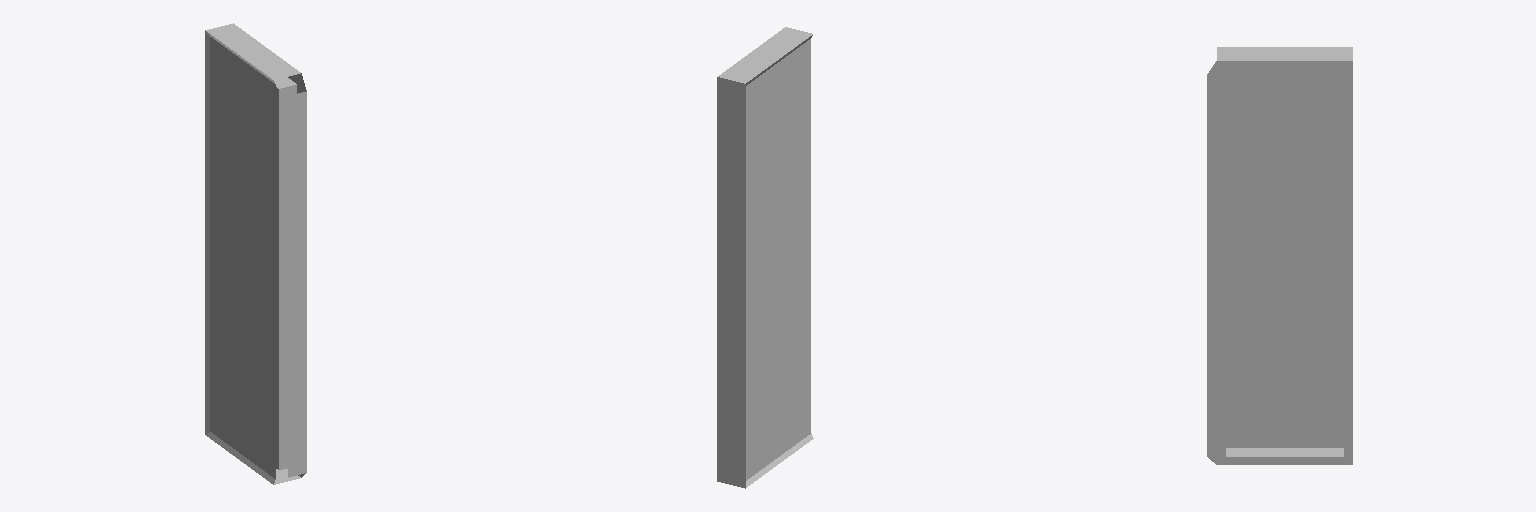
Rendered from WallPanel.obj.
3 views of the same model, side by side, from view 1: azimuth 30°, elevation 25°; view 2: azimuth 150°, elevation 25°; view 3: azimuth 270°, elevation 25° (orthographic).
Parts seen in each view (by area): view 1: WindowWall; view 2: WindowWall; view 3: WindowWall.
Part boxes in pixels (left/top/right/bottom): WindowWall: left=205, top=23, right=306, bottom=484; WindowWall: left=717, top=27, right=813, bottom=488; WindowWall: left=1207, top=47, right=1352, bottom=464.
Size of the model in its own units: 0.2242 by 3.06 by 1.